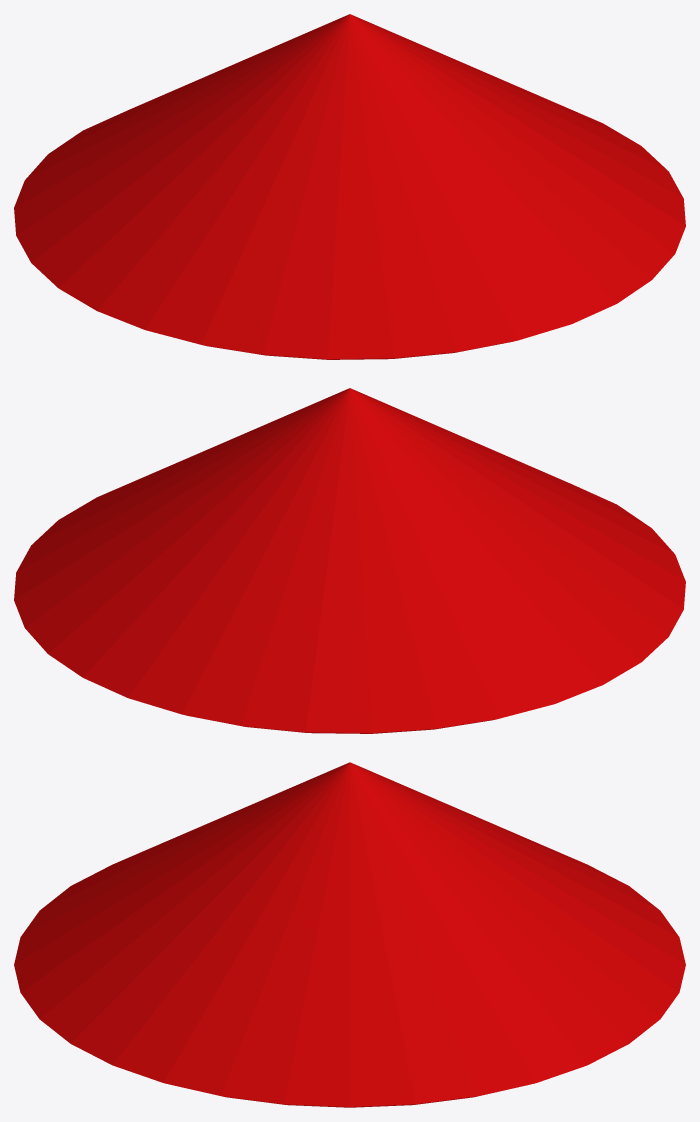
Rendered from tactir(red).obj.
3 views of the same model, one above another, from view 1: azimuth 30°, elevation 25°; view 2: azimuth 150°, elevation 25°; view 3: azimuth 270°, elevation 25° (orthographic).
Parts seen in each view (by area): view 1: Cone; view 2: Cone; view 3: Cone.
Part boxes in pixels (box(x1,y1,x2,y2)): Cone: box(14, 14, 685, 359); Cone: box(14, 388, 685, 733); Cone: box(14, 762, 685, 1107).
Size of the model in its own units: 1.94 by 0.6659 by 1.94.
